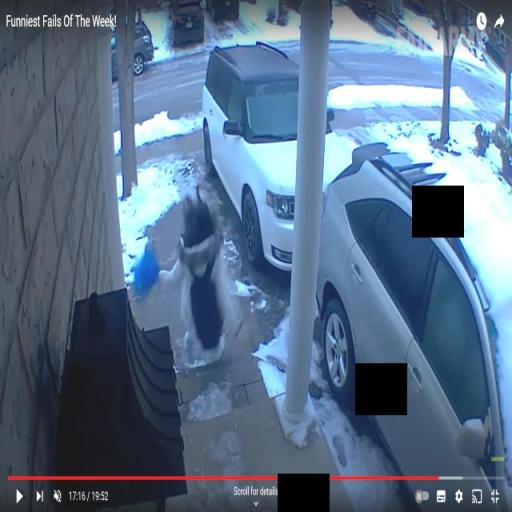Fall: (150, 193, 251, 369)
